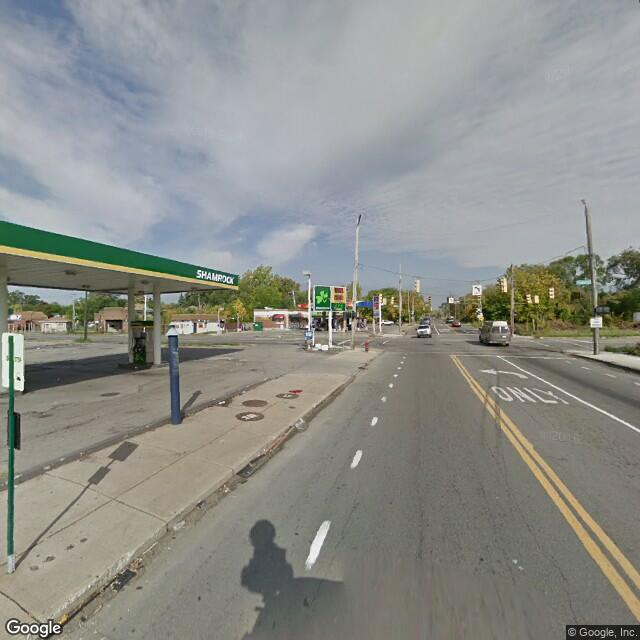litter: (238, 411, 259, 421), (292, 419, 307, 431), (217, 398, 228, 405), (221, 486, 231, 493)
